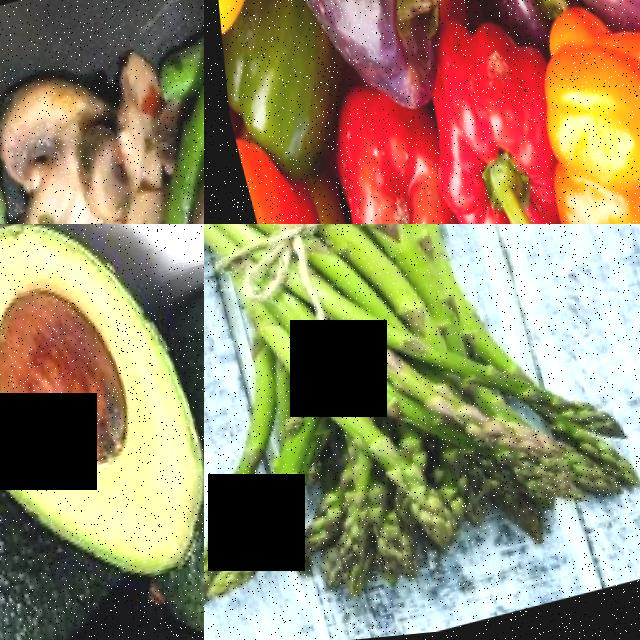asparagus: (220, 235, 414, 589), (393, 224, 515, 555)
avocado: (0, 224, 204, 631), (146, 258, 204, 640)
bell pepper: (407, 24, 578, 224), (504, 0, 640, 224), (319, 90, 443, 224), (285, 0, 437, 88)
